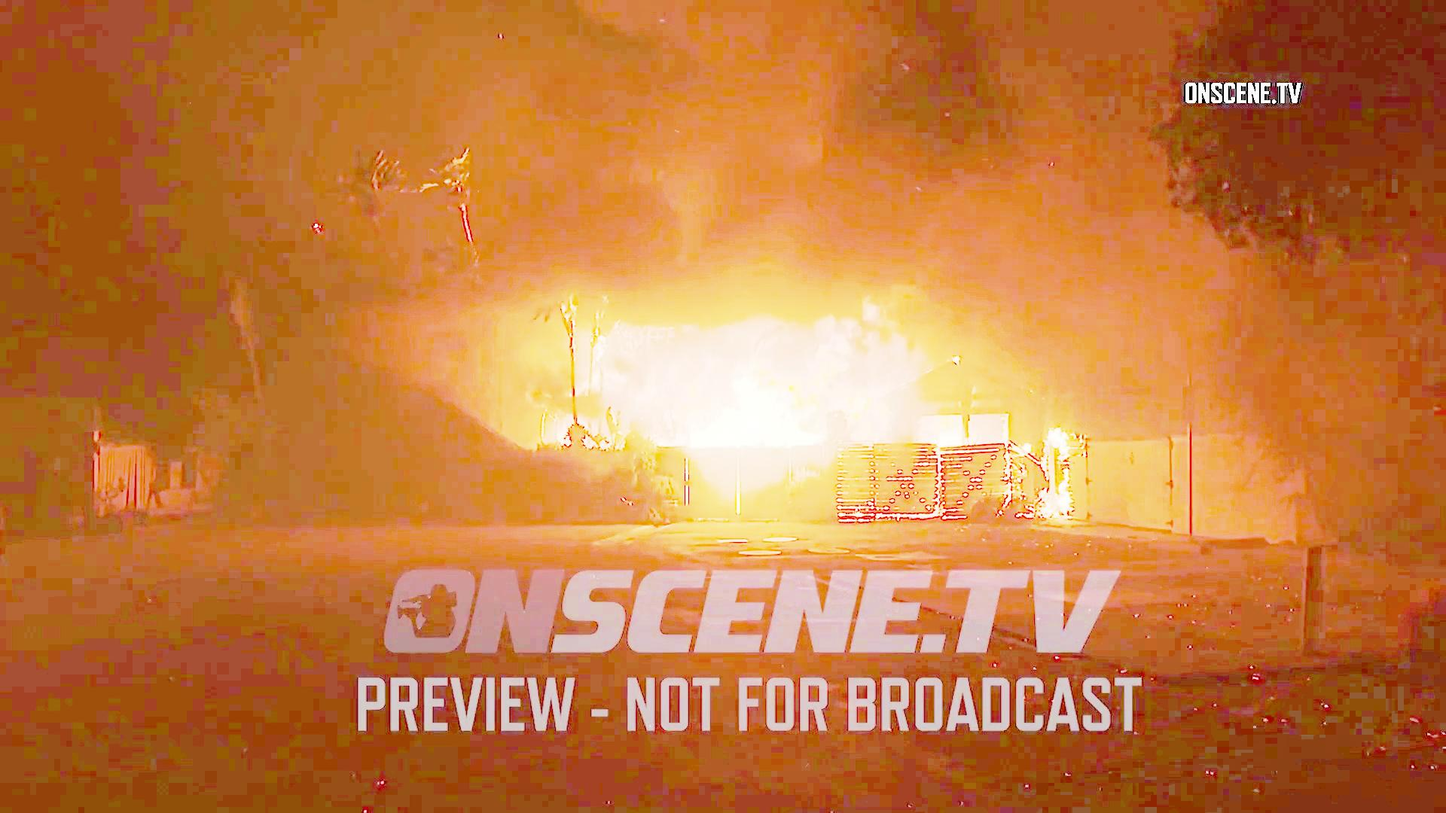fire: (586, 296, 904, 451)
